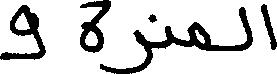X: (0, 0, 48, 64), (111, 10, 150, 73), (79, 0, 109, 73), (189, 17, 210, 55), (262, 0, 276, 54), (240, 2, 251, 55), (165, 21, 172, 53)
